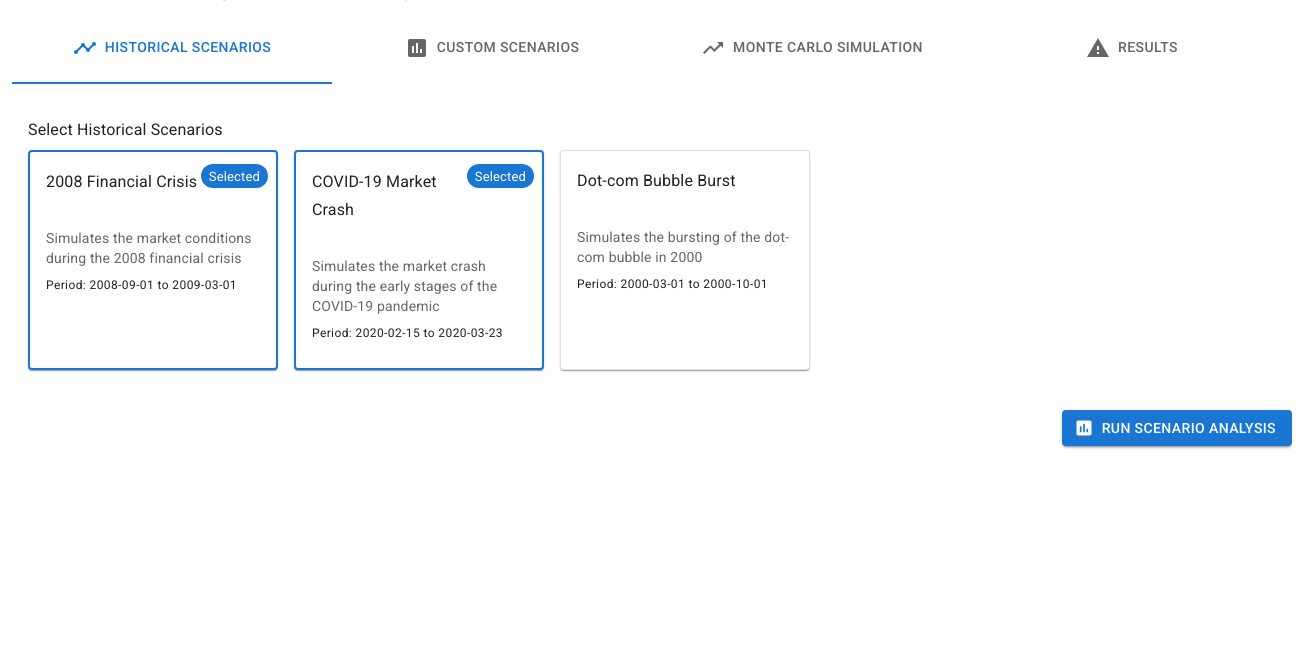
ScenarioAnalysisPanel › allows creating a custom scenario
# Switch to custom scenarios tab
Step 1. Click the tab "Custom Scenarios" → point(492, 48), box [332, 12, 652, 84]
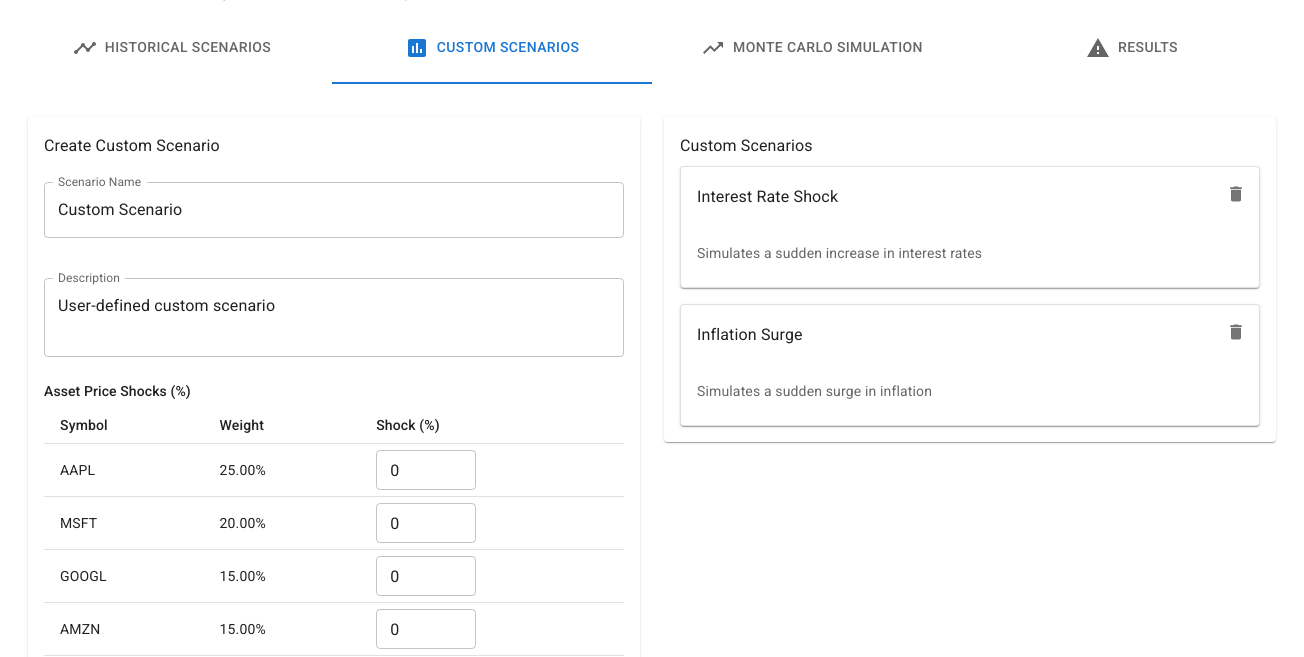
# Fill in scenario name and description
Step 2. Replace the text in the field labelled "Scenario Name" with "My Custom Scenario" → point(334, 210), box [44, 182, 624, 238]
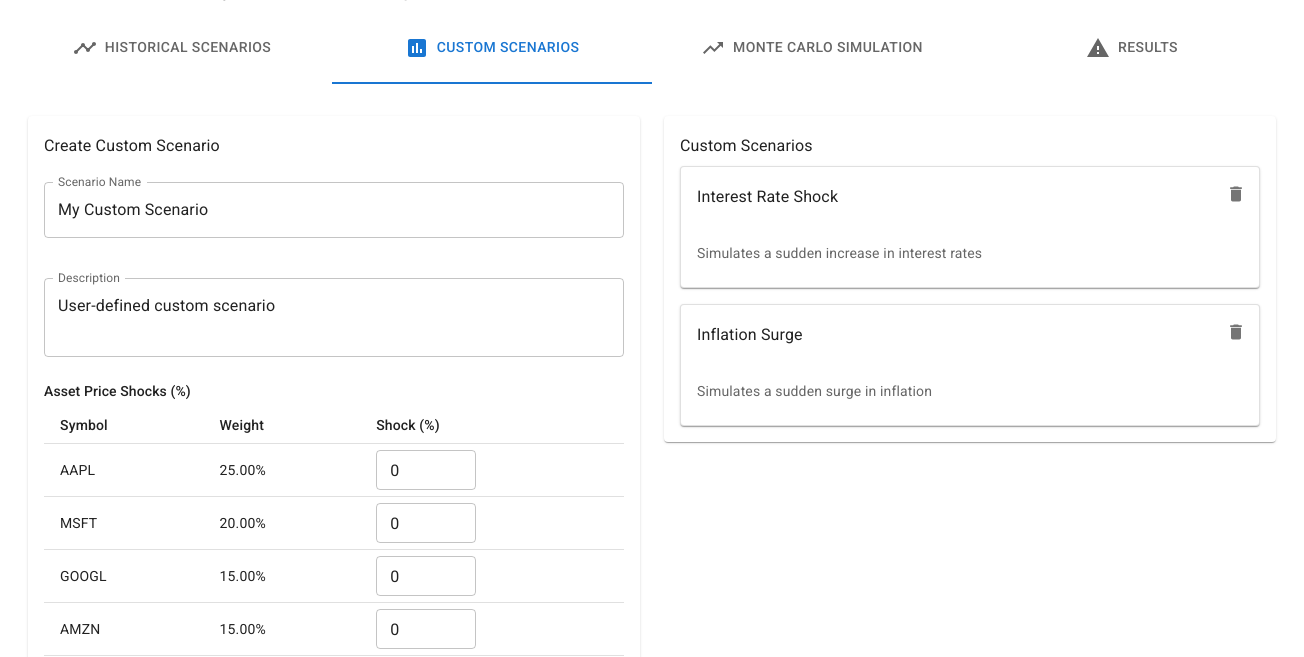
Step 3. Replace the text in the text box labelled "Description" with "This is my custom scenario" → point(334, 317), box [58, 294, 610, 340]
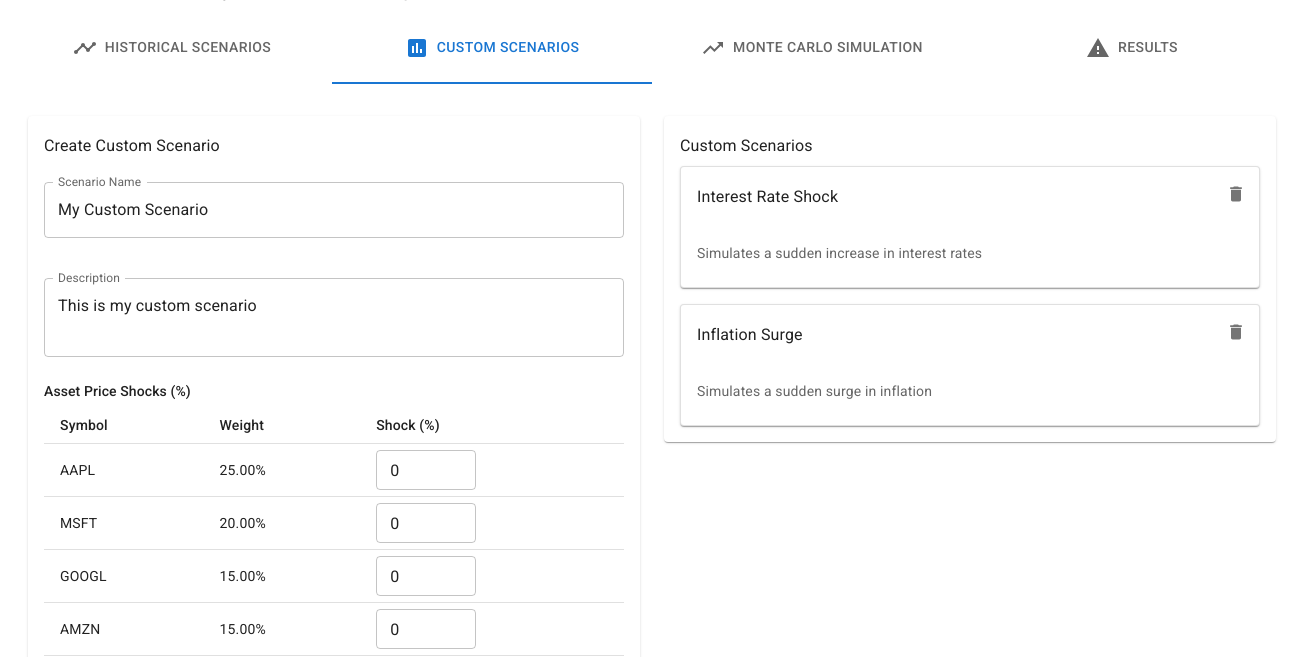
# Set shock values for assets
Step 4. Replace the text in the number field in the row of "AAPL" with "-15" → point(426, 470), box [376, 450, 476, 490]
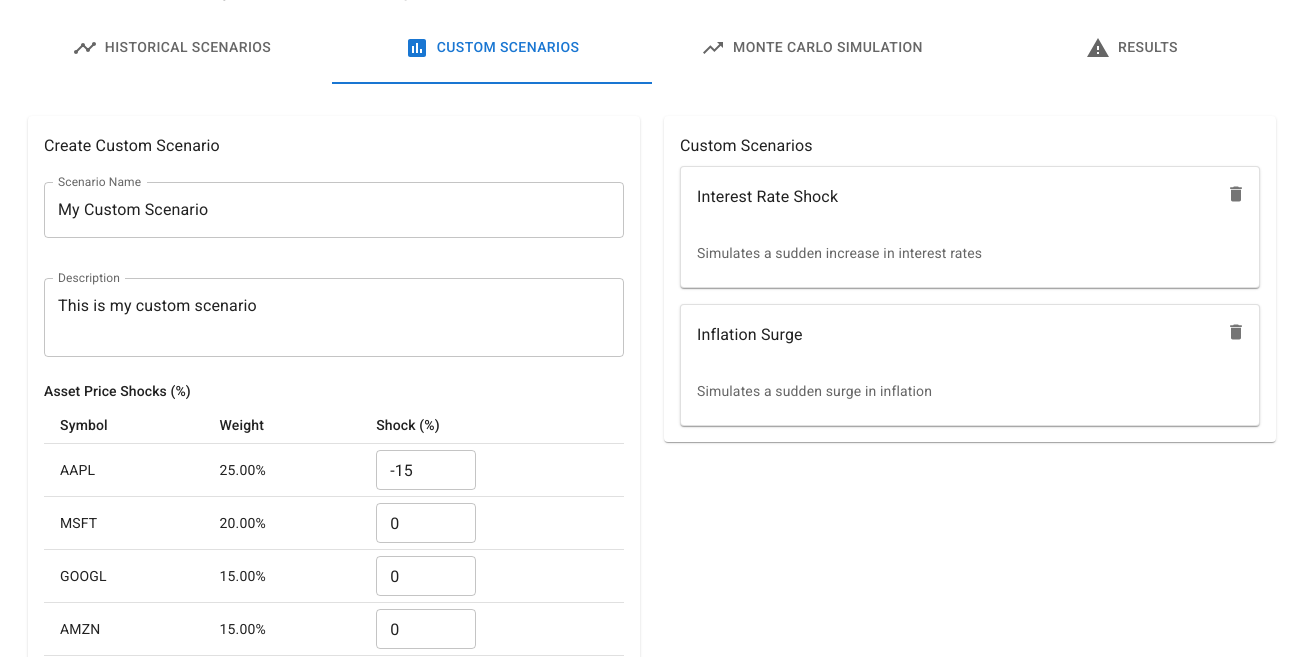
Step 5. Replace the text in the number field in the row of "MSFT" with "-10" → point(426, 524), box [376, 504, 476, 544]
(page scrolled)
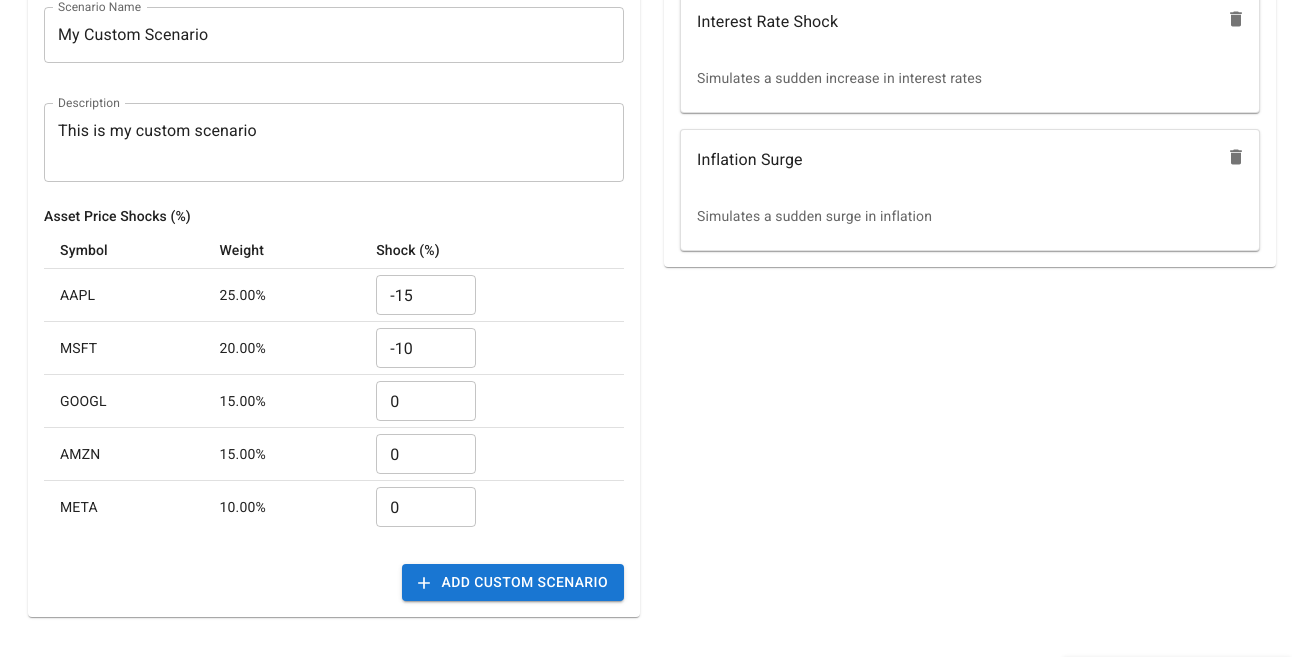
# Click Add Custom Scenario button
Step 6. Click the button "Add Custom Scenario" → point(513, 583), box [402, 564, 624, 601]
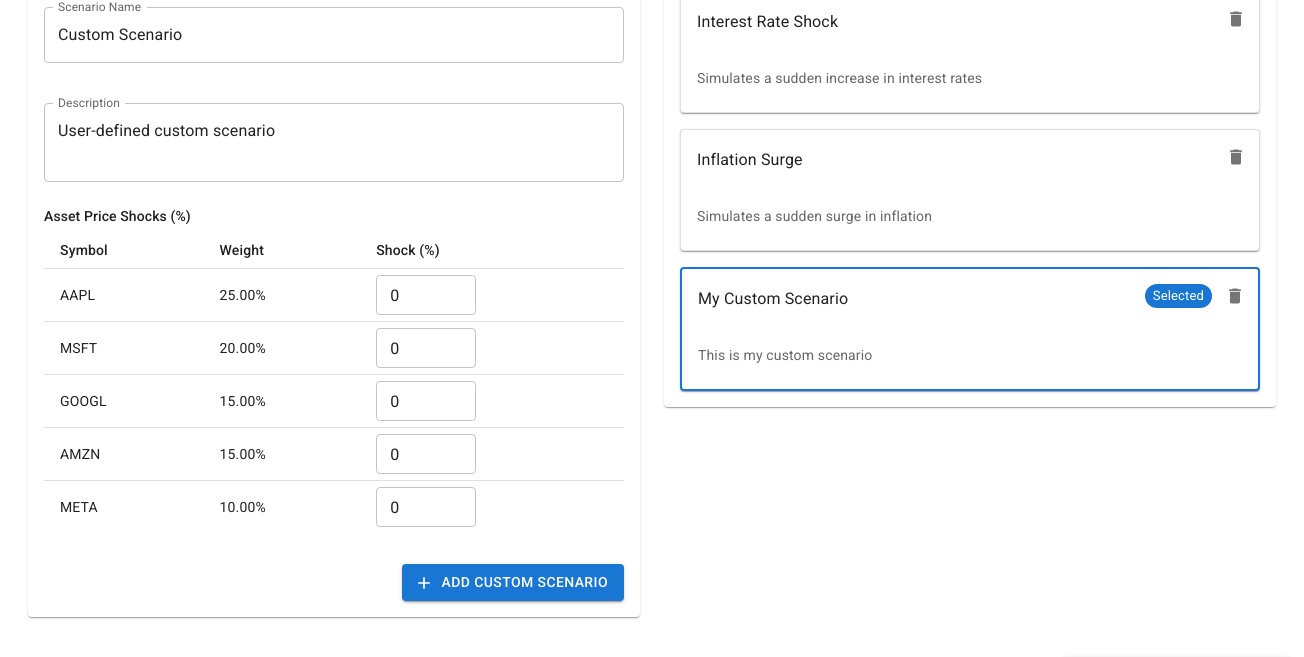
Expected: the text "My Custom Scenario" is shown, [698, 289, 848, 308]
Expected: the text "This is my custom scenario" is shown, [698, 347, 872, 363]
